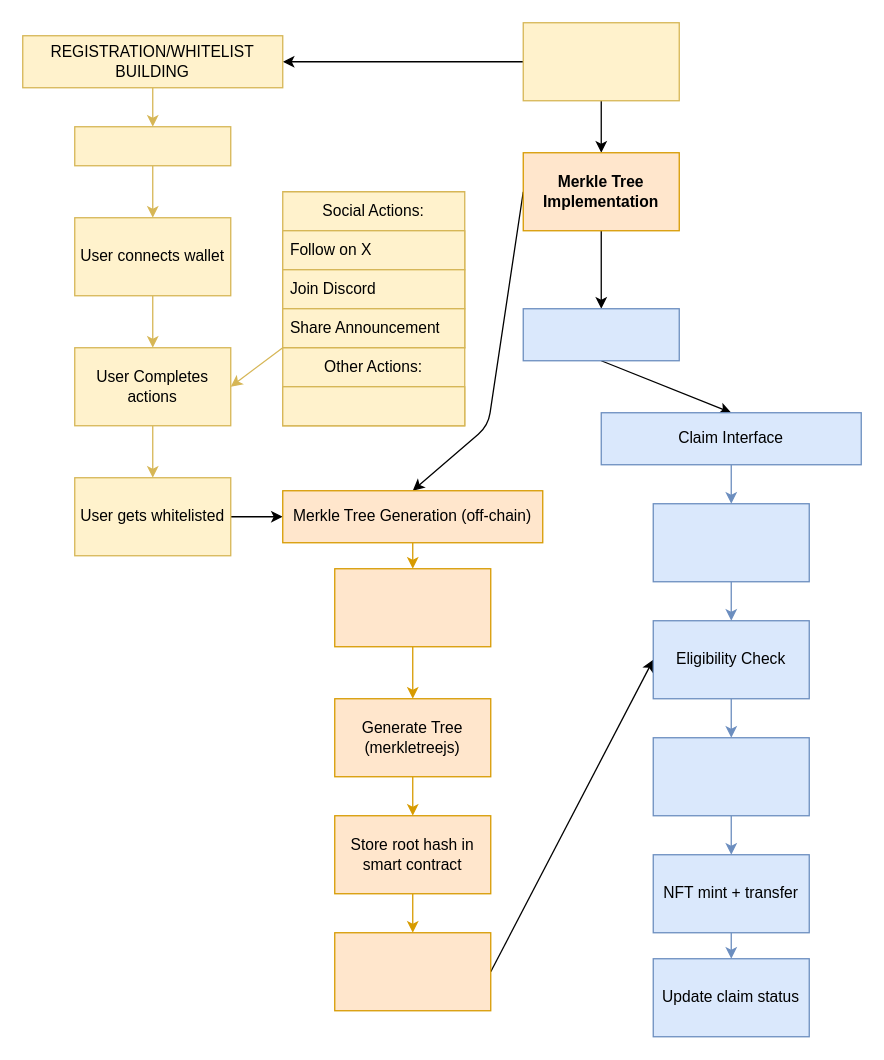
Image size: 884x1060. Some labels were removed from this diagram. The box of each missing label's shape, as (x1, y1, x2, y2) in pixels:
Claim Process: (522, 307, 679, 361)
Claim status check: (652, 736, 809, 816)
Collect and compile all eligible wallet addresses: (333, 567, 491, 647)
Email submission: (281, 385, 465, 426)
FLOW 1: Whitelist system: (522, 21, 679, 101)
Generate individual proofs for each address: (333, 931, 491, 1011)
User visits website: (73, 125, 231, 166)
Wallet connect: (652, 502, 809, 582)
